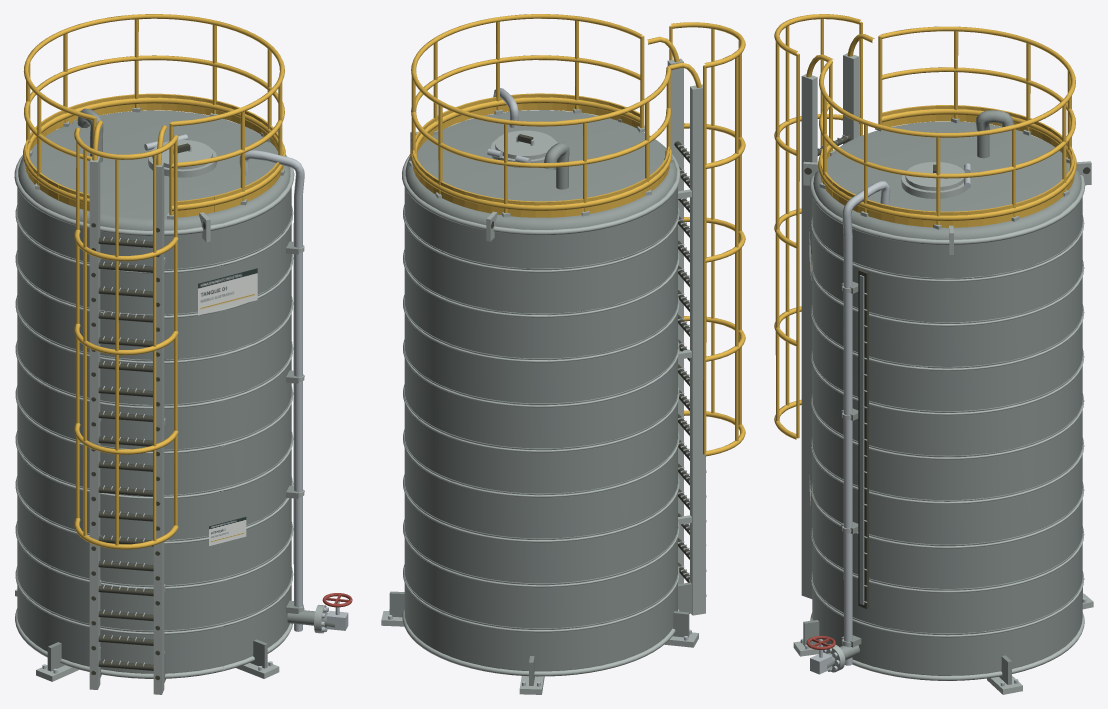
The model's file is silo.glb.
The picture shows the model from 3 angles, left to right: view 1: azimuth 30°, elevation 25°; view 2: azimuth 150°, elevation 25°; view 3: azimuth 270°, elevation 25°; orthographic projection.
Visible parts, largest first — view 1: Estrutura, Tampa_Inspecao; view 2: Estrutura, Tampa_Inspecao; view 3: Estrutura, Tampa_Inspecao.
Part boxes in pixels (left/top/right/bottom): Estrutura: left=14, top=14, right=352, bottom=694; Tampa_Inspecao: left=152, top=140, right=212, bottom=169; Estrutura: left=381, top=14, right=745, bottom=694; Tampa_Inspecao: left=495, top=130, right=555, bottom=159; Estrutura: left=774, top=14, right=1093, bottom=694; Tampa_Inspecao: left=905, top=162, right=964, bottom=190.
Bounding box in the file's own units: 3.04 × 6.12 × 3.19.
Materials: 4 (4 with a texture image).
